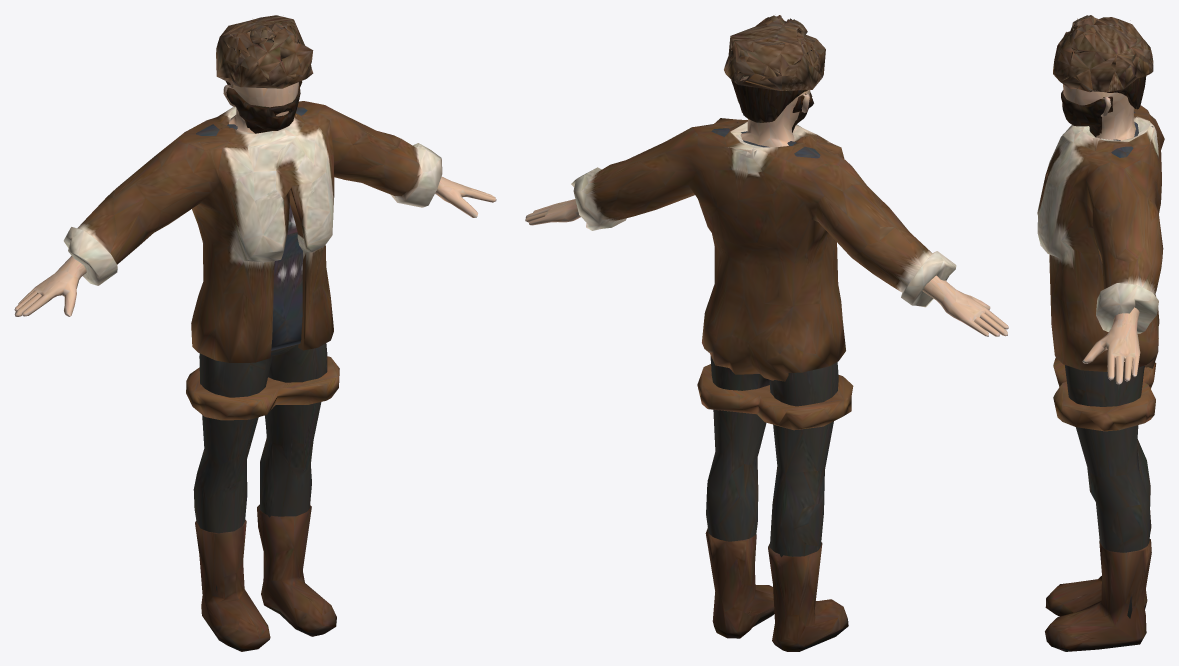
The model's file is npc_x_man_w3.glb.
The picture shows the model from 3 angles, left to right: view 1: azimuth 30°, elevation 25°; view 2: azimuth 150°, elevation 25°; view 3: azimuth 270°, elevation 25°; orthographic projection.
Parts seen in each view (by area): view 1: Human; view 2: Human; view 3: Human.
Boxes of the visible parts, bbox=[...] form: Human: bbox=[14, 15, 496, 651]; Human: bbox=[525, 15, 1008, 651]; Human: bbox=[1037, 15, 1164, 651].
Bounding box in the file's own units: 1.54 × 1.86 × 0.353.
1 material, 1 textured.
